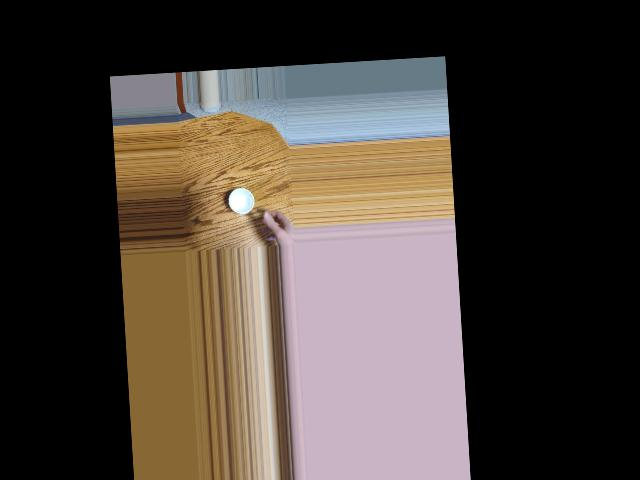cotage: (229, 187, 257, 218)
